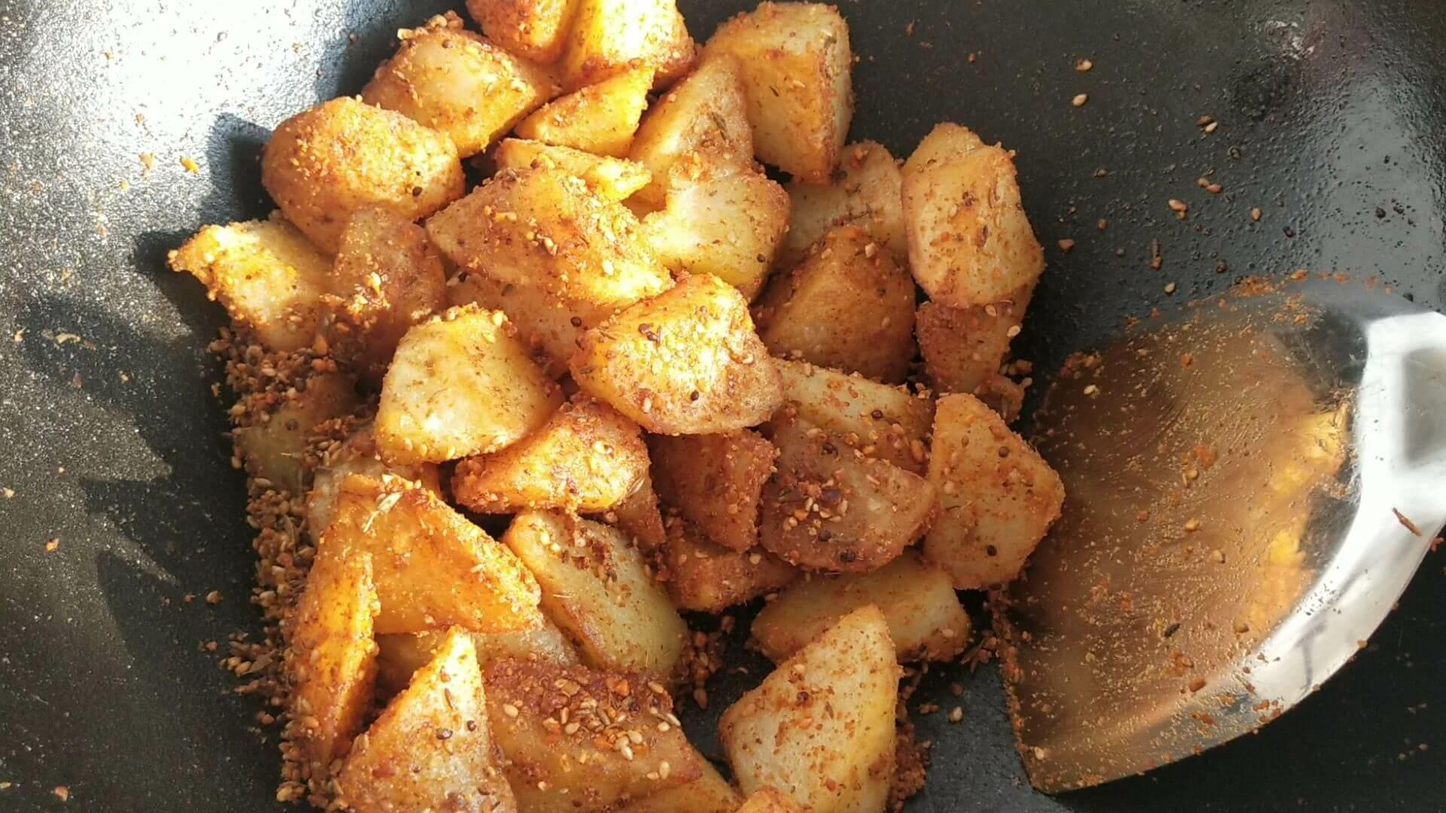AlooMasala: (170, 3, 1064, 813)
